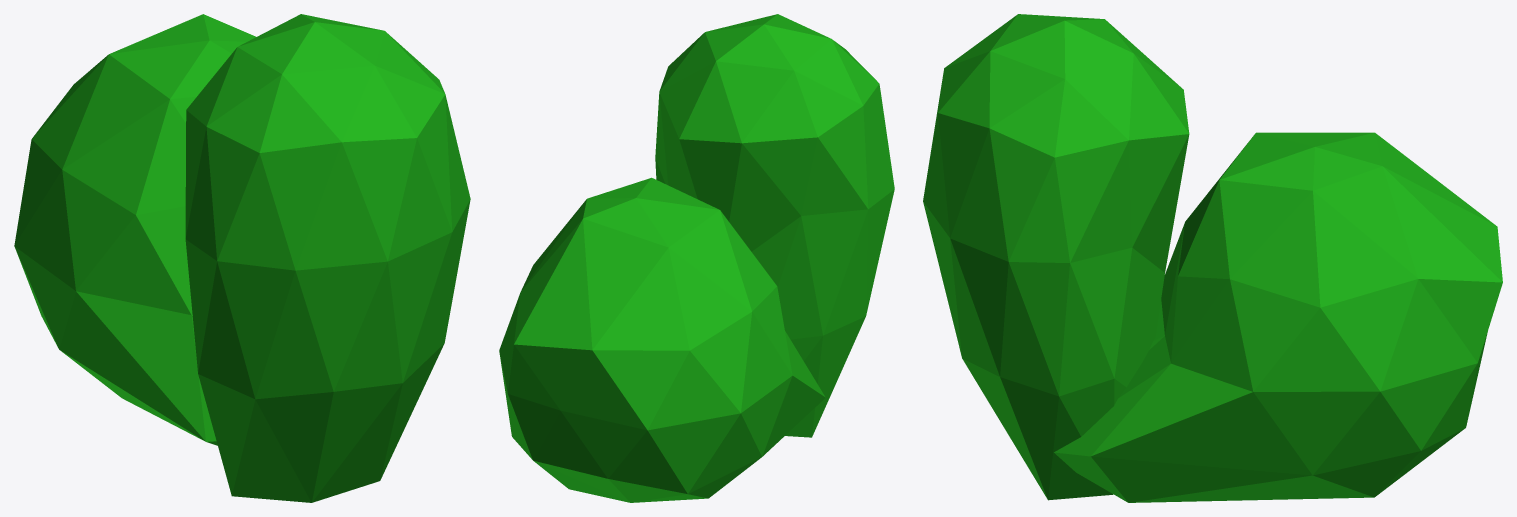
Rendered from kyst_3.fbx.
The picture shows the model from 3 angles, left to right: view 1: azimuth 30°, elevation 25°; view 2: azimuth 150°, elevation 25°; view 3: azimuth 270°, elevation 25°; orthographic projection. The views are drawn at different scales.
Parts seen in each view (by area): view 1: Icosphere; view 2: Icosphere; view 3: Icosphere.
Part boxes in pixels (x1=…): Icosphere: x1=14, y1=14, x2=470, y2=502; Icosphere: x1=499, y1=14, x2=894, y2=502; Icosphere: x1=923, y1=14, x2=1502, y2=502.
Size of the model in its own units: 18.13 by 32.36 by 27.88.
